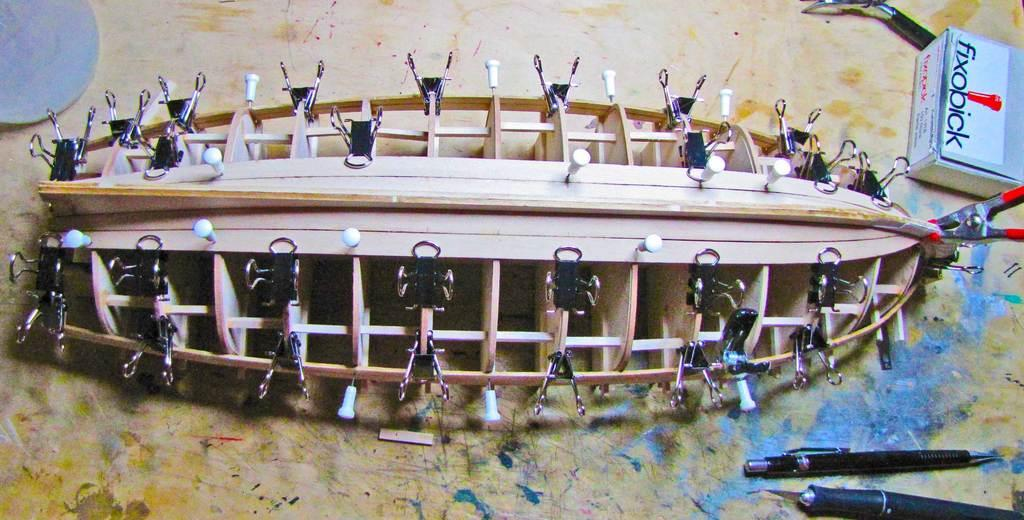pen: (743, 447, 1003, 481), (797, 491, 1022, 519), (863, 0, 945, 51)
